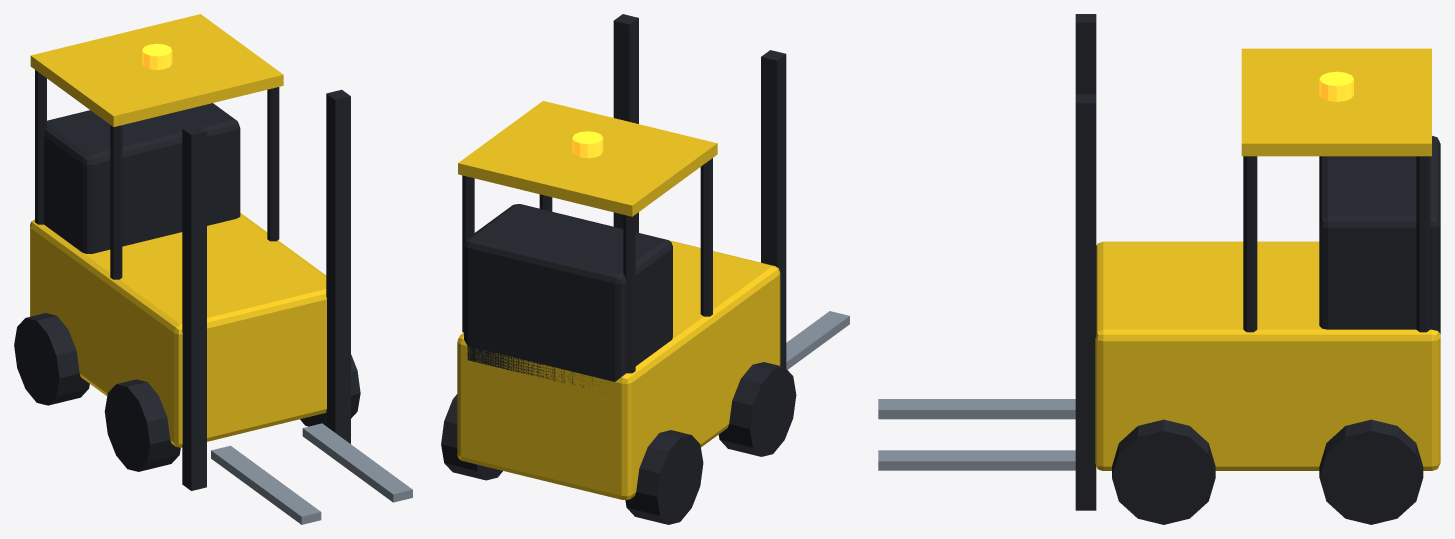
The model's file is forklift.glb.
3 views of the same model, side by side, from view 1: azimuth 30°, elevation 25°; view 2: azimuth 150°, elevation 25°; view 3: azimuth 270°, elevation 25° (orthographic). The views are drawn at different scales.
Parts seen in each view (by area): view 1: forklift; view 2: forklift; view 3: forklift.
Part boxes in pixels (<box>): forklift: <box>14,14,412,524</box>; forklift: <box>441,14,849,524</box>; forklift: <box>878,14,1440,524</box>.
Size of the model in its own units: 1.61 by 2.6 by 3.25.
